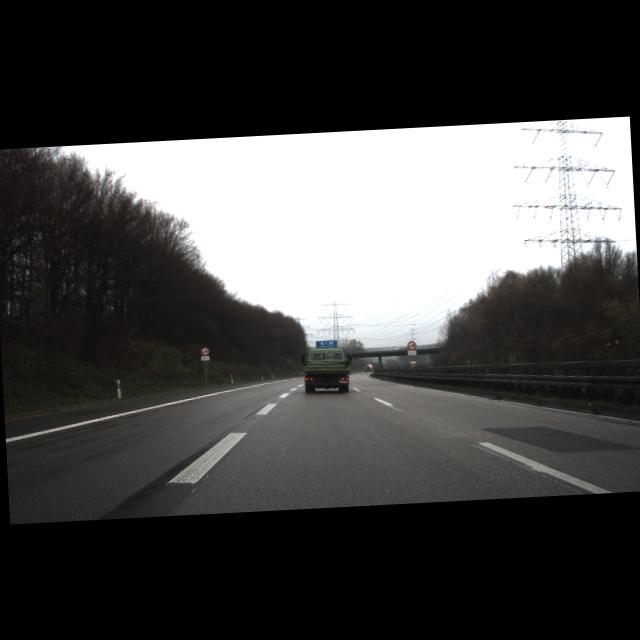prohibitory: (200, 346, 211, 356), (408, 340, 417, 350)
